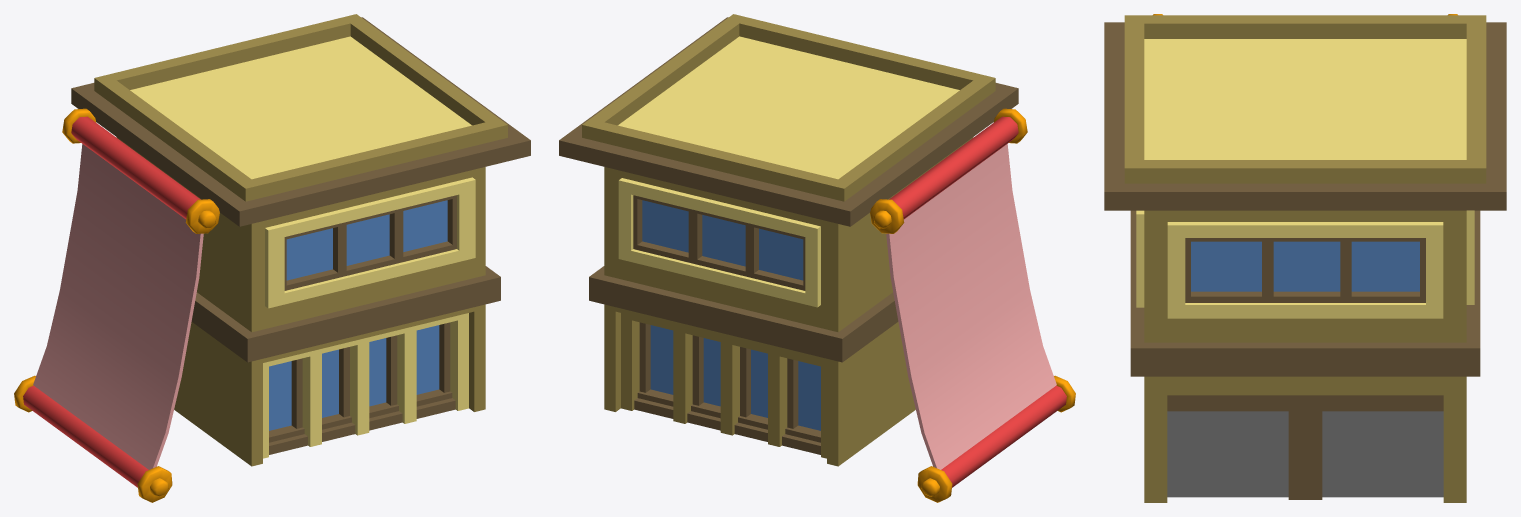
File: House_Parchment.fbx
3 views of the same model, side by side, from view 1: azimuth 30°, elevation 25°; view 2: azimuth 150°, elevation 25°; view 3: azimuth 270°, elevation 25° (orthographic). The views are drawn at different scales.
Parts seen in each view (by area): view 1: House_Parchment; view 2: House_Parchment; view 3: House_Parchment.
Boxes of the visible parts, bbox=[...] form: House_Parchment: bbox=[14, 14, 530, 502]; House_Parchment: bbox=[559, 14, 1075, 502]; House_Parchment: bbox=[1104, 14, 1506, 502].
Bounding box in the file's own units: 15.96 × 12.52 × 12.59.
